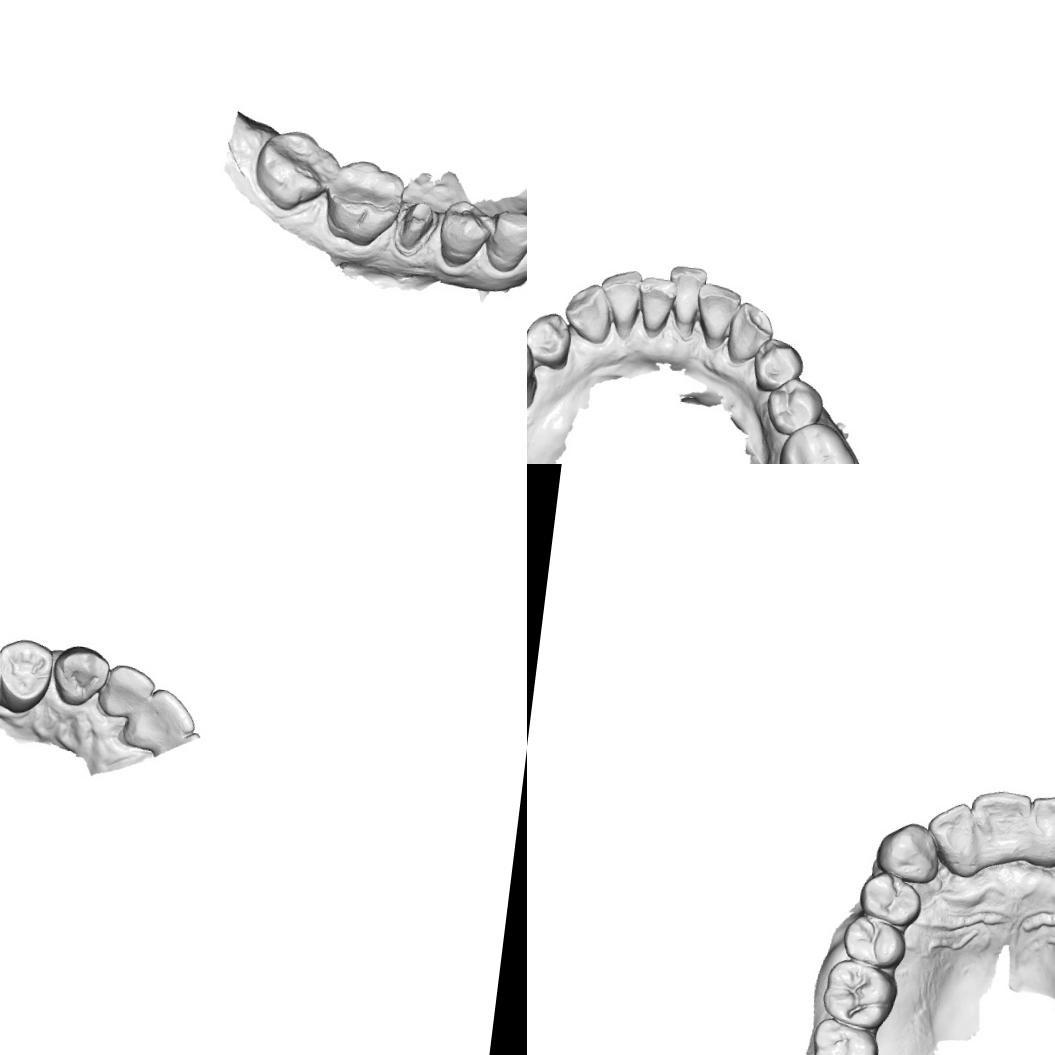canine: (872, 818, 944, 886), (50, 642, 112, 710), (559, 280, 618, 348), (724, 300, 778, 368)
crown: (391, 198, 441, 260)
incisor: (965, 785, 1034, 870), (120, 683, 200, 755), (921, 798, 985, 879), (594, 266, 645, 342), (95, 661, 158, 722), (690, 280, 743, 350), (662, 263, 710, 339), (632, 272, 679, 340), (1023, 789, 1055, 873)
molar: (248, 124, 342, 216), (322, 154, 407, 250), (820, 956, 900, 1033), (772, 416, 862, 464), (807, 1015, 882, 1055)
premolar: (0, 634, 56, 717), (435, 198, 497, 272), (838, 910, 912, 971), (856, 868, 924, 929), (763, 374, 826, 439), (750, 334, 808, 397), (482, 207, 527, 276), (527, 309, 575, 372), (527, 328, 543, 411)
